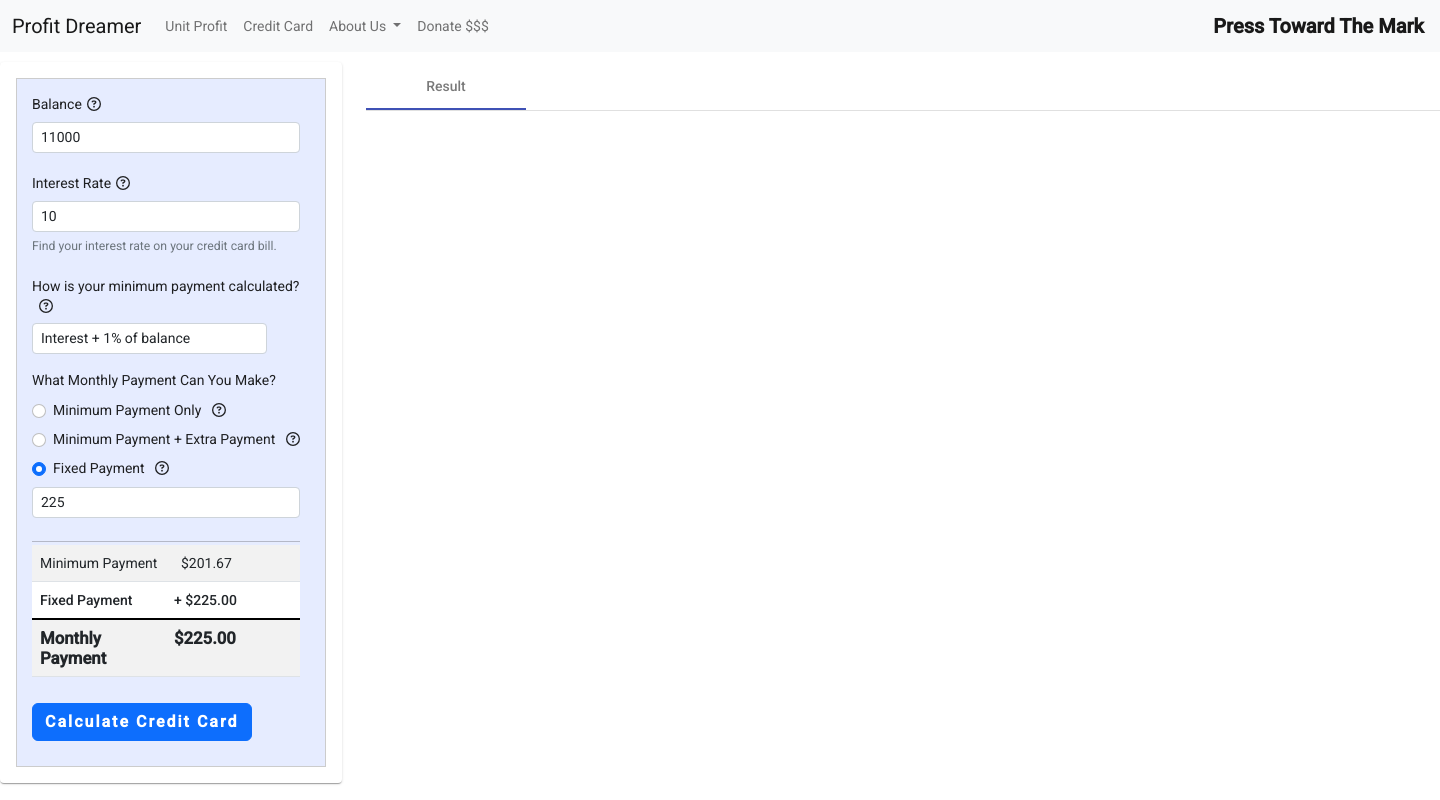
credit-card-fixed-payment-validation.cy.ts › 10,000 15% payment fixed › change minimum payment to 4% › must be greater than min payment should visibile and shown
Select "4% of balance" in the dropdown with id "minimum-payment-type" at (150, 339), box [32,323,267,354]
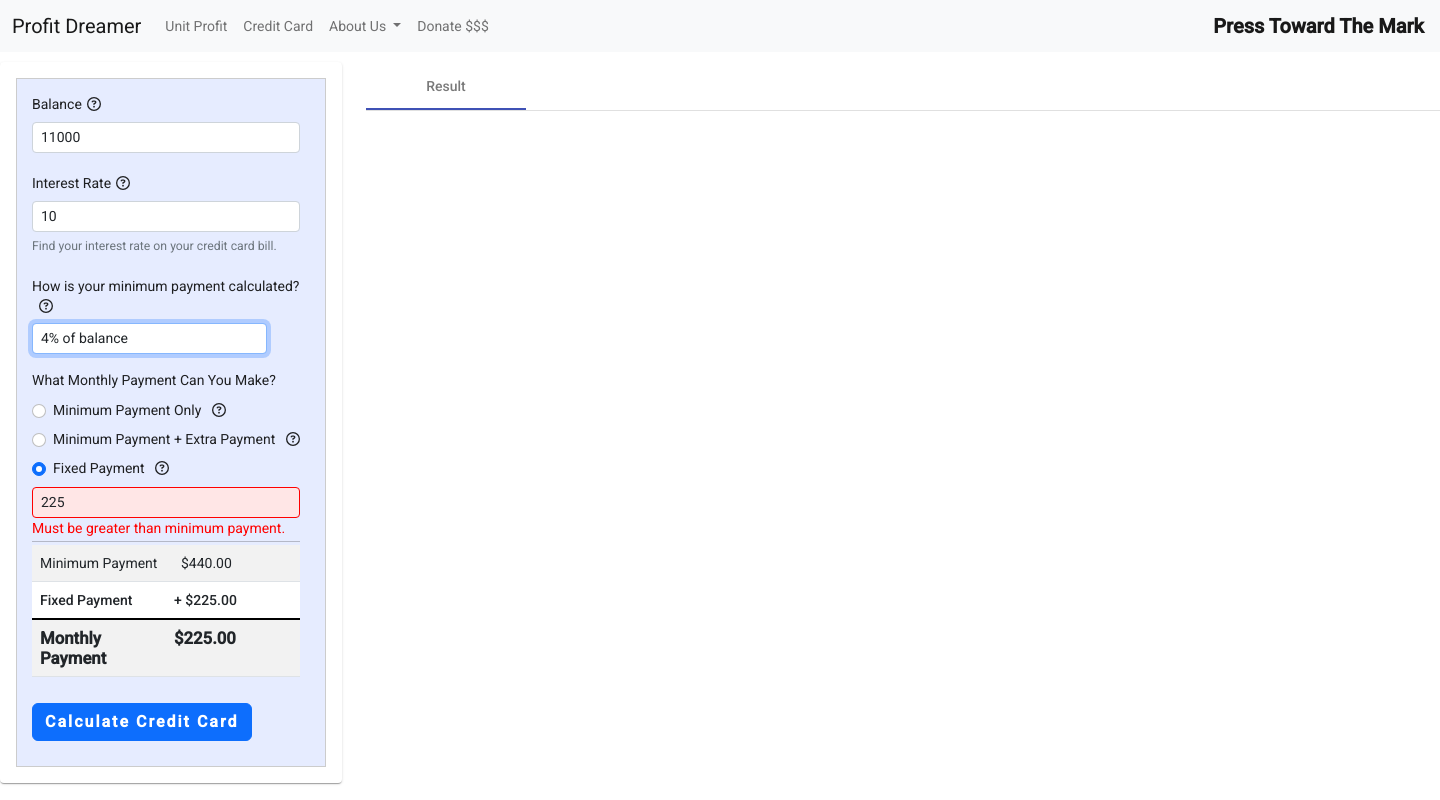
Expected: the text with id "fixed-payment-error" reads "Must be greater than minimum payment.", [32,518,300,538]
